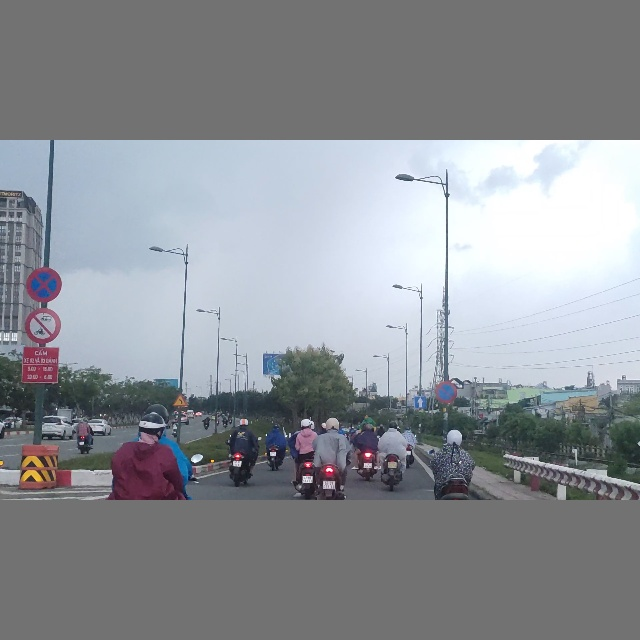I.407a: (414, 396, 427, 409)
P.111: (25, 307, 61, 343)
P.130: (26, 267, 62, 303)
P.131a: (436, 380, 457, 403)
W.201a: (173, 394, 188, 407)
